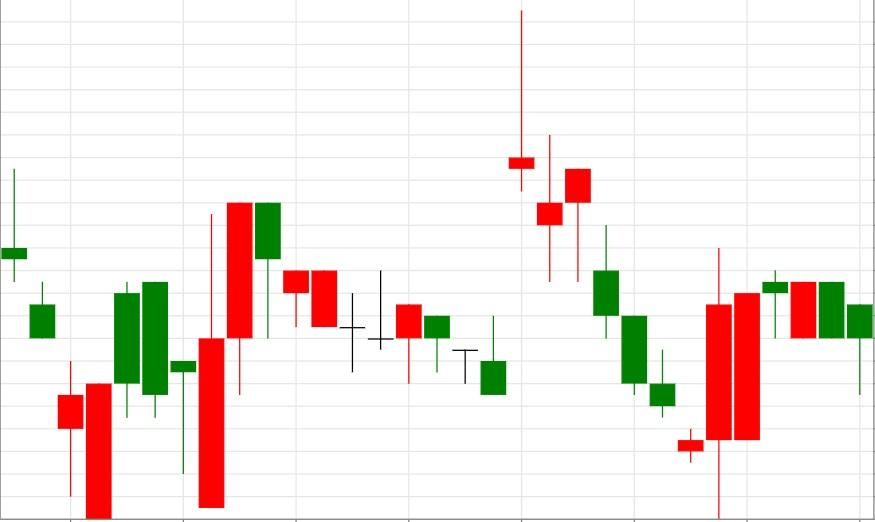hanging_man_fall: (169, 202, 282, 509)
